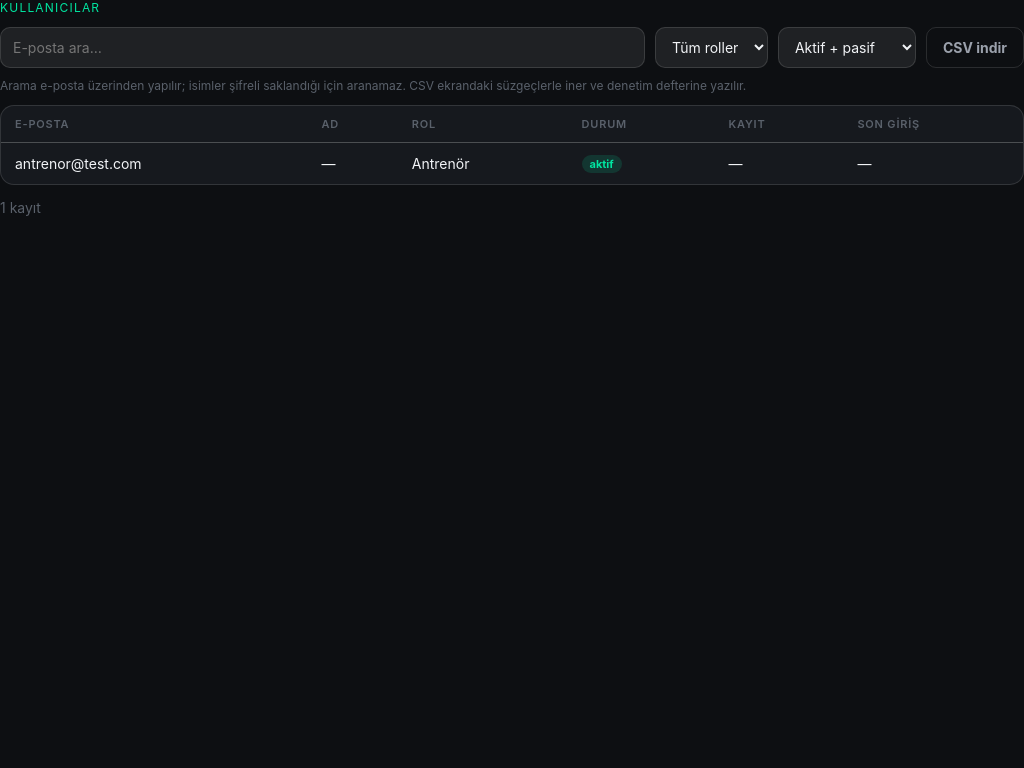
Test: UsersPage Bileşen Testleri › hesap pasifleştirme başarısız olursa çekmecede hata görünür
Check: the text "antrenor@test.com" is shown, box [1,142,308,184]
Step 1. Click the row "antrenor@test.com — Antrenör aktif — —" → point(78, 164), box [1,142,1023,184]
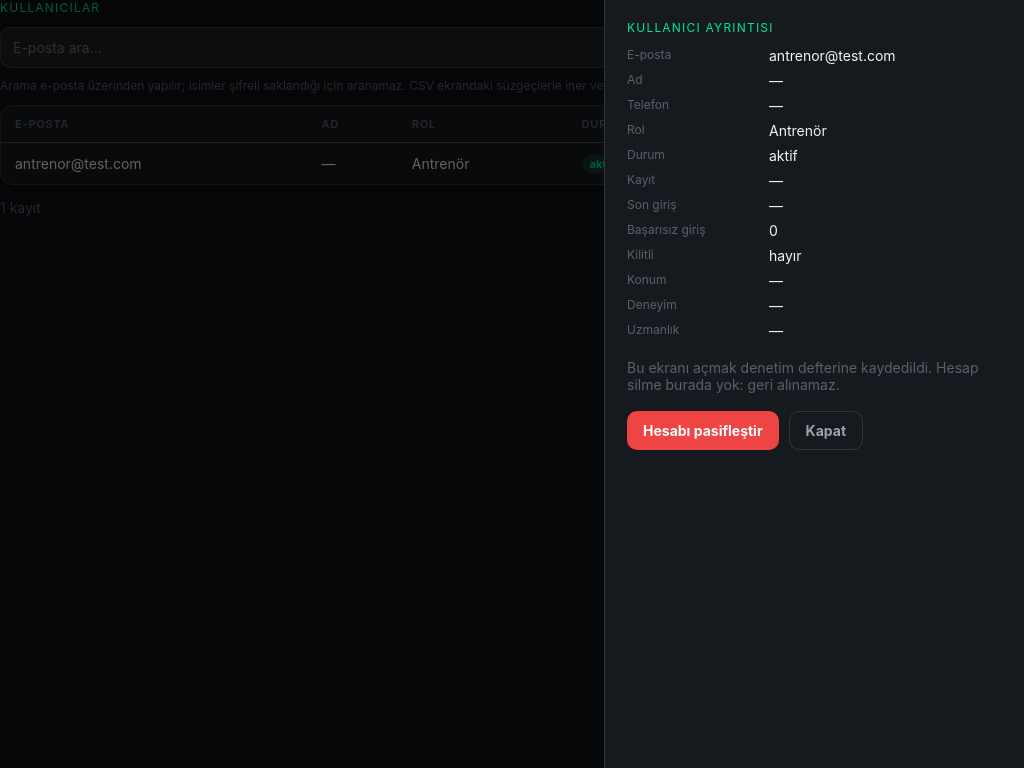
Step 2. Click the button "Hesabı pasifleştir" → point(703, 430), box [627,411,779,450]
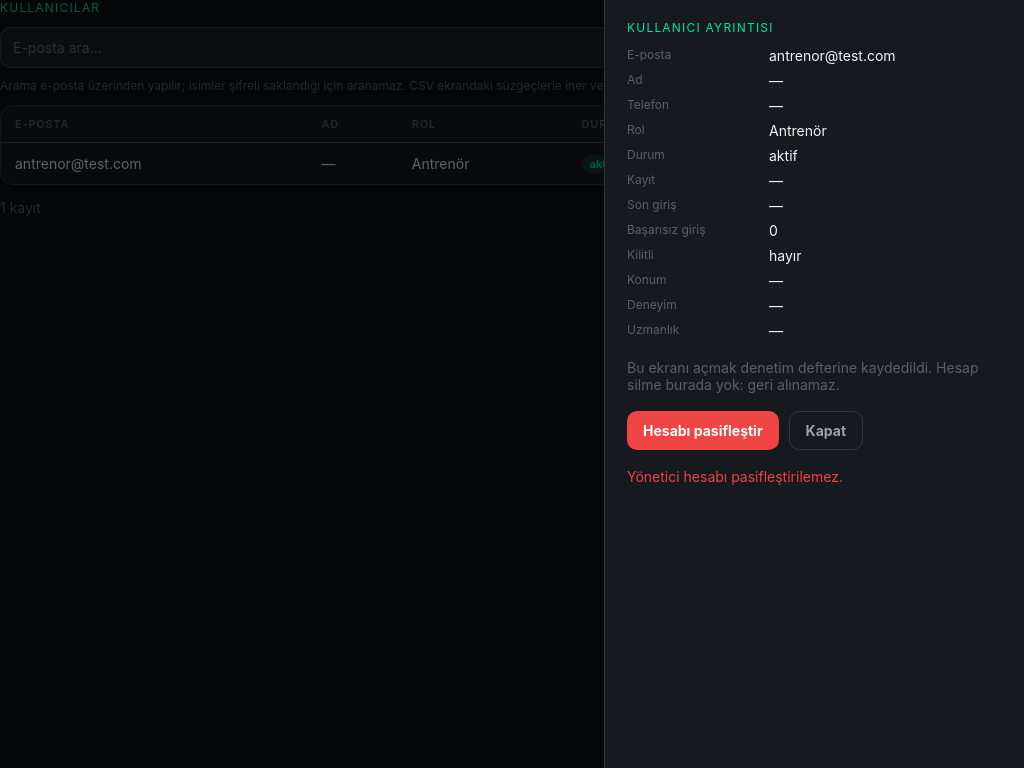
Check: the text "Yönetici hesabı pasifleştirilemez." is shown, box [627,468,843,485]
